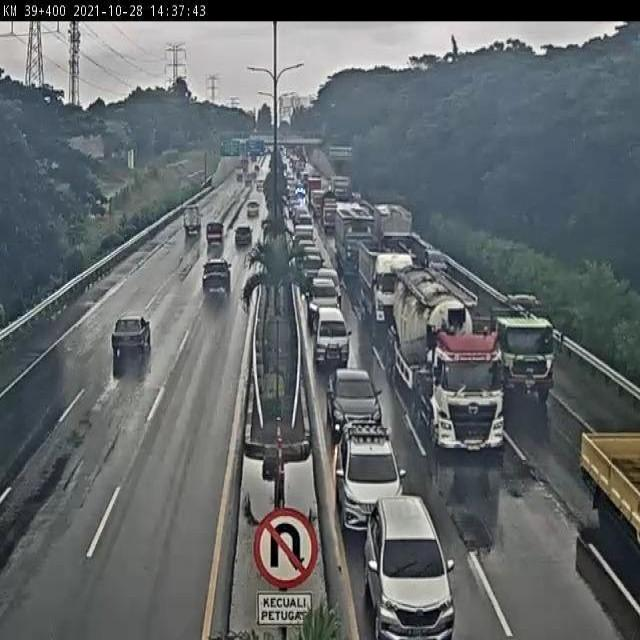big truck: (386, 264, 494, 448), (482, 280, 564, 399), (348, 232, 404, 323), (335, 200, 375, 279)
car: (356, 489, 455, 640), (333, 415, 404, 524), (323, 362, 379, 429), (100, 308, 154, 368), (311, 306, 355, 371), (194, 250, 234, 298), (411, 241, 446, 288), (305, 277, 343, 315), (226, 217, 255, 263), (200, 213, 225, 252), (298, 245, 327, 276), (239, 194, 260, 222)
small truck: (552, 400, 640, 551), (173, 200, 203, 241)
